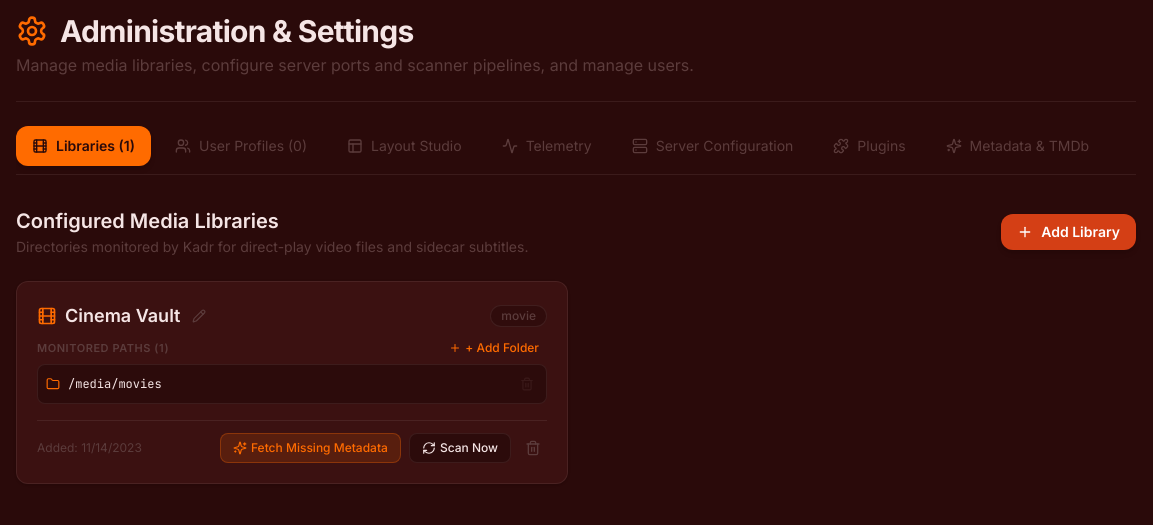
Test: MetadataSettingsPanel & AdminDashboard TMDb Integration › displays "Fetch Missing Metadata" button on libraries in AdminDashboard when TMDb is enabled
The width and height of the screenshot is (1153, 525).
Click the button "Fetch Missing Metadata".
click(310, 448)  # box [220,433,401,463]
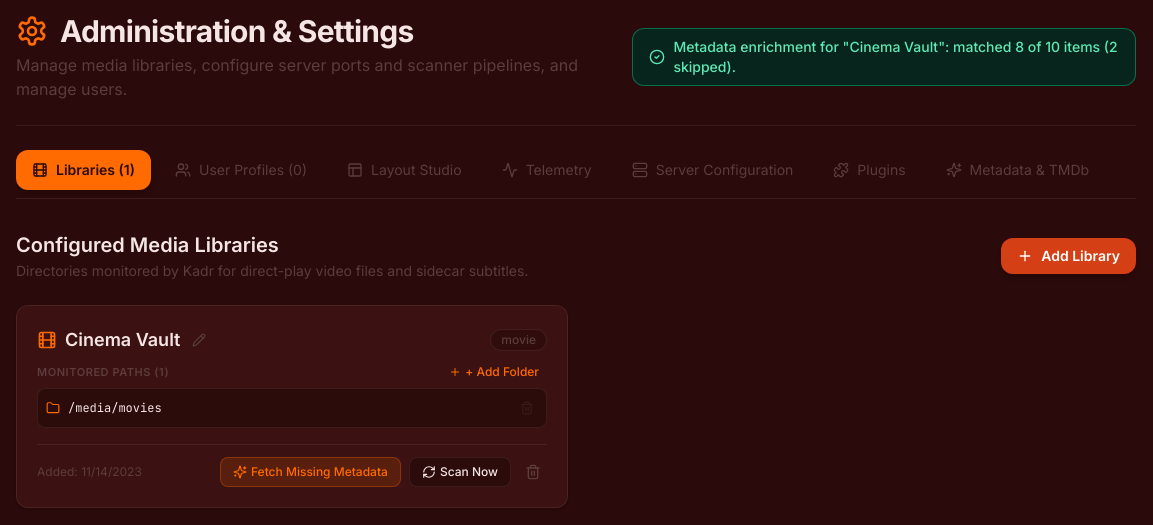
Now the text "matched 8 of 10 items" is shown, box [673,38,1118,75]
